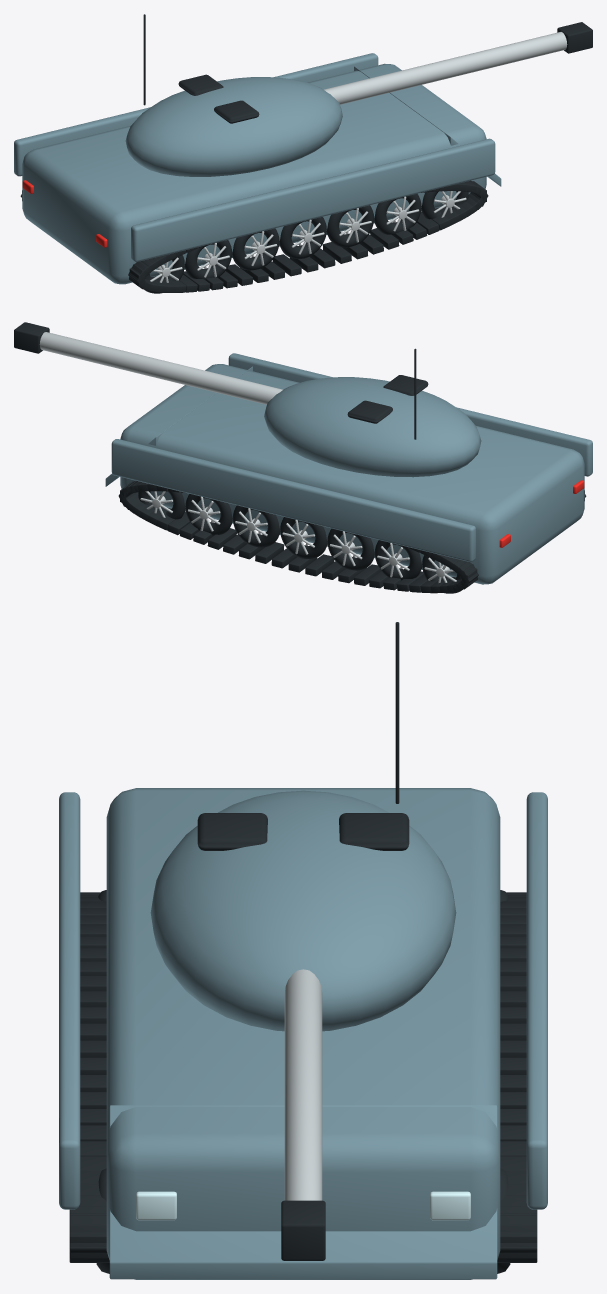
The model's file is Tank.fbx.
3 views of the same model, one above another, from view 1: azimuth 30°, elevation 25°; view 2: azimuth 150°, elevation 25°; view 3: azimuth 270°, elevation 25° (orthographic). The views are drawn at different scales.
Visible parts, largest first — view 1: BodyPaint, BodyPaint.001, TrimRubber.007, BrushedAlloy.014, TrimRubber.015, TrimRubber.002, TrimRubber.004, TrimRubber.003, TrimRubber.005, TrimRubber.001, TrimRubber.006, BrushedAlloy.005 (+4 smaller); view 2: BodyPaint, BodyPaint.001, TrimRubber.007, BrushedAlloy.014, TrimRubber.015, TrimRubber.010, TrimRubber.012, TrimRubber.011, TrimRubber.013, TrimRubber.009, TrimRubber.014, BrushedAlloy.009 (+5 smaller); view 3: BodyPaint, BodyPaint.001, TrimRubber.007, BrushedAlloy.014, TrimRubber.015, Headlamp.
Boxes of the visible parts, x1,y1,x2,y2 form: BodyPaint: (14, 53, 501, 284); BodyPaint.001: (125, 77, 342, 176); TrimRubber.007: (20, 14, 488, 292); BrushedAlloy.014: (324, 32, 567, 104); TrimRubber.015: (178, 22, 592, 123); TrimRubber.002: (232, 228, 279, 270); TrimRubber.004: (326, 205, 373, 247); TrimRubber.003: (279, 217, 326, 258); TrimRubber.005: (374, 193, 421, 235); TrimRubber.001: (184, 240, 232, 279); TrimRubber.006: (421, 191, 468, 219); BrushedAlloy.005: (386, 196, 419, 231); BodyPaint: (105, 353, 592, 584); BodyPaint.001: (264, 377, 481, 477); TrimRubber.007: (118, 348, 586, 593); BrushedAlloy.014: (39, 332, 282, 404); TrimRubber.015: (14, 322, 428, 423); TrimRubber.010: (327, 528, 374, 570); TrimRubber.012: (232, 505, 280, 547); TrimRubber.011: (280, 517, 327, 558); TrimRubber.013: (185, 494, 232, 535); TrimRubber.009: (375, 540, 422, 580); TrimRubber.014: (138, 491, 185, 519); BrushedAlloy.009: (329, 531, 362, 566); BodyPaint: (59, 788, 547, 1279); BodyPaint.001: (150, 790, 456, 1031); TrimRubber.007: (69, 622, 537, 1262); BrushedAlloy.014: (284, 969, 322, 1200); TrimRubber.015: (197, 813, 409, 1260); Headlamp: (136, 1191, 470, 1220).
Bounding box in the file's own units: 1031 × 409 × 416.
